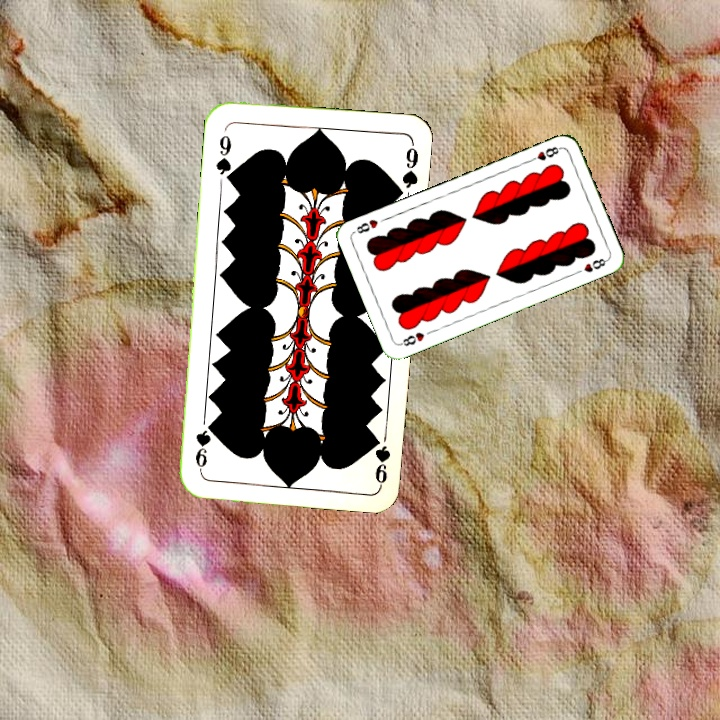G9: (212, 131, 235, 185), (371, 441, 393, 487)
H8: (525, 142, 564, 165), (396, 328, 427, 349)
